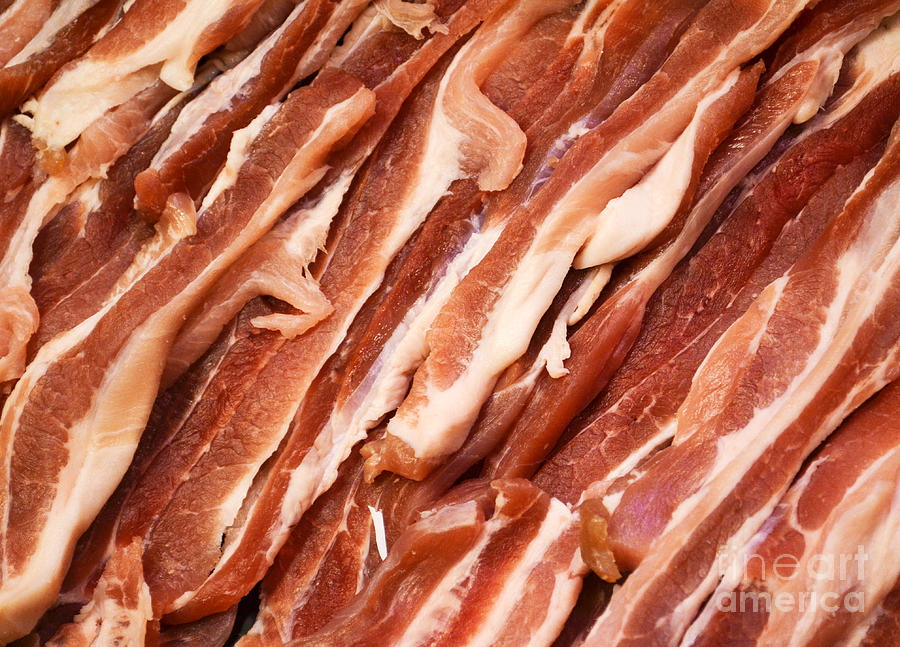bacon: (4, 14, 385, 519), (474, 106, 811, 578)
